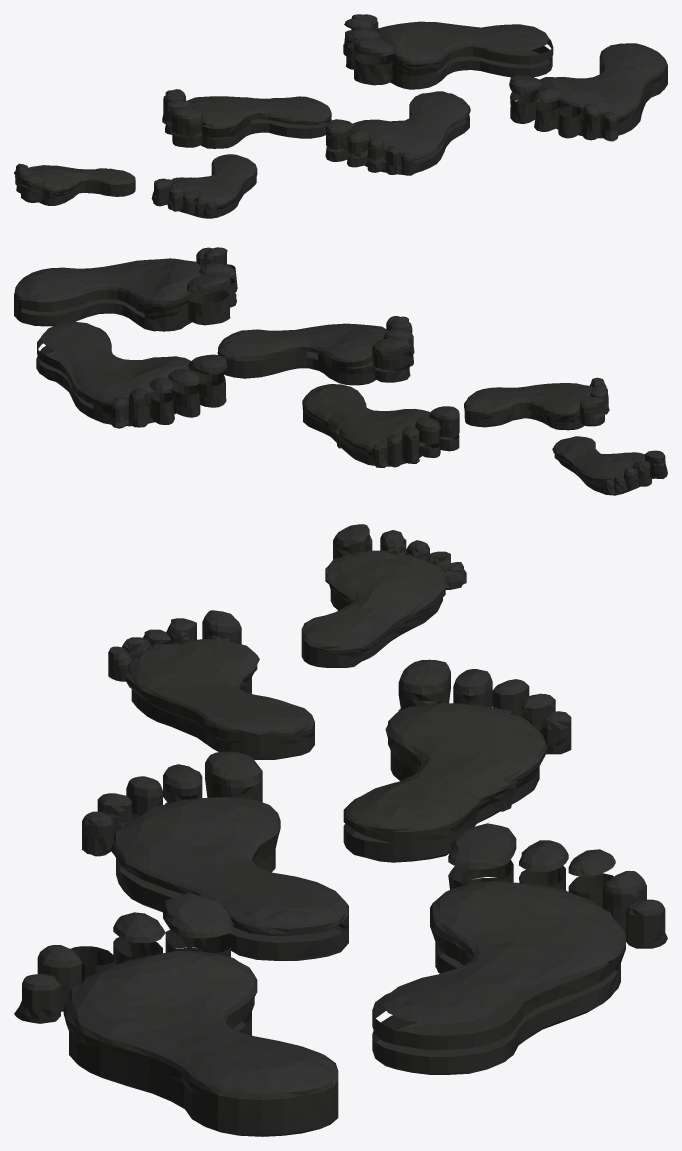
File: Paso.glb
The picture shows the model from 3 angles, top to bottom: view 1: azimuth 30°, elevation 25°; view 2: azimuth 150°, elevation 25°; view 3: azimuth 270°, elevation 25°; orthographic projection. The views are drawn at different scales.
Visible parts, largest first — view 1: tripo_node_e2e36467-7b7c-4939-ba58-d0e1f91137a0; view 2: tripo_node_e2e36467-7b7c-4939-ba58-d0e1f91137a0; view 3: tripo_node_e2e36467-7b7c-4939-ba58-d0e1f91137a0.
Boxes of the visible parts, x1,y1,x2,y2 form: tripo_node_e2e36467-7b7c-4939-ba58-d0e1f91137a0: (14,14,667,218); tripo_node_e2e36467-7b7c-4939-ba58-d0e1f91137a0: (14,247,667,495); tripo_node_e2e36467-7b7c-4939-ba58-d0e1f91137a0: (14,524,667,1136).
Bounding box in the file's own units: 1 × 0.0763 × 0.4892.
Materials: 1 (1 with a texture image).
